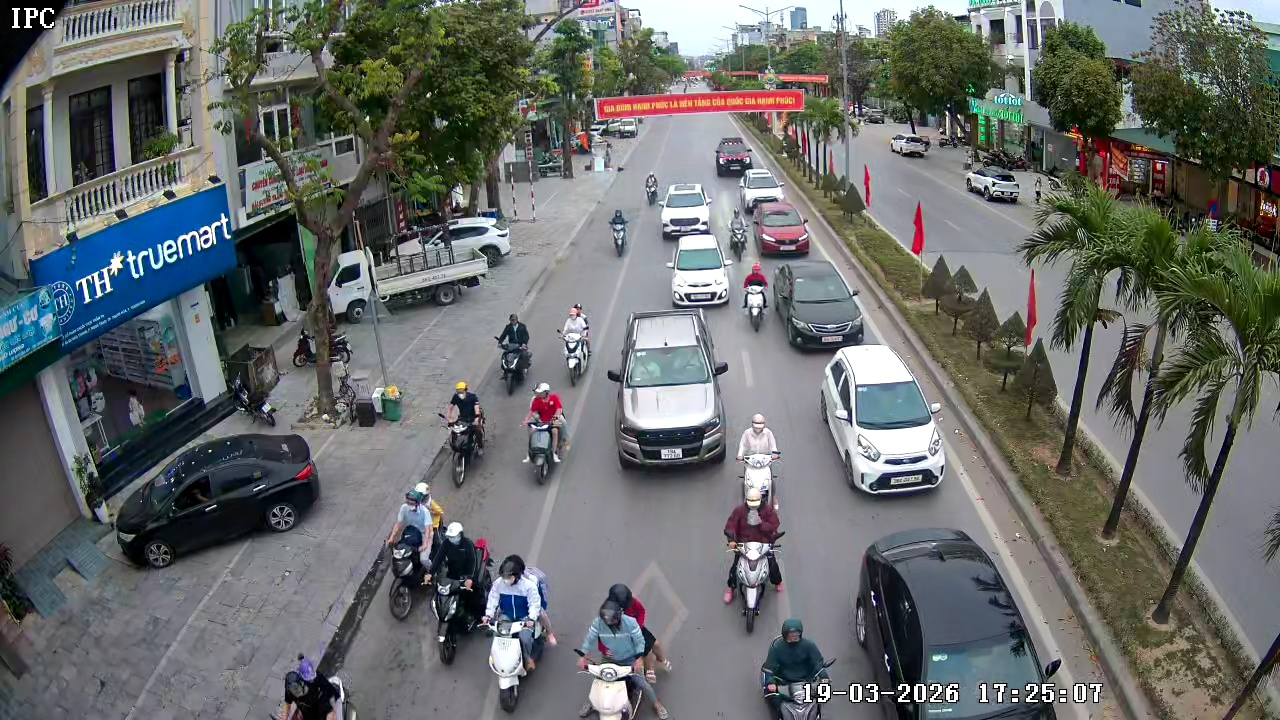car: (849, 526, 1071, 719), (112, 427, 322, 568), (607, 306, 730, 470), (819, 345, 947, 493), (775, 258, 865, 351), (665, 229, 735, 308), (752, 200, 811, 258), (657, 182, 713, 240), (964, 161, 1023, 205), (737, 167, 785, 209), (714, 136, 753, 176)
exception: (272, 650, 357, 719)
motorbike: (574, 581, 673, 719), (483, 553, 554, 715), (720, 485, 787, 635), (431, 519, 490, 667), (757, 614, 838, 719), (380, 462, 433, 622), (437, 379, 489, 485), (522, 381, 570, 486), (734, 411, 784, 511), (494, 311, 534, 396), (557, 302, 593, 387), (740, 262, 770, 333), (727, 204, 750, 261), (609, 208, 629, 258), (644, 171, 659, 206)
